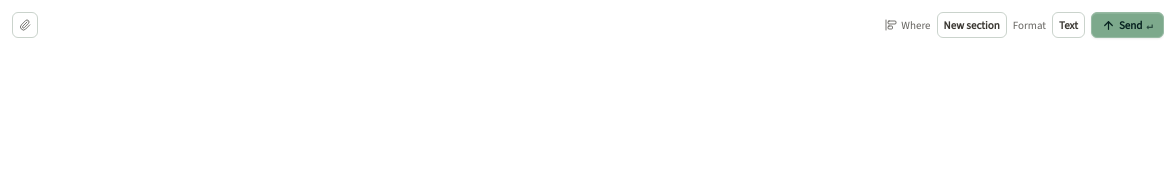
Test: AskAiActionBar › renders the where options; a disabled option carries its hint as title
Click the button with test id "askai-where" at [972, 25], box [937,12,1007,38]
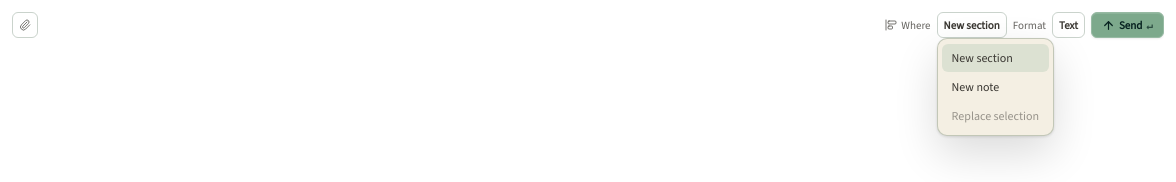
Check: the options read "New section", "New note", "Replace selection", in this order, box [942,44,1049,72]; [952,79,999,95]; [952,108,1039,124]
